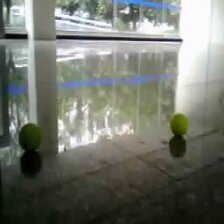tennis: (20, 124, 41, 153), (170, 113, 187, 135)
